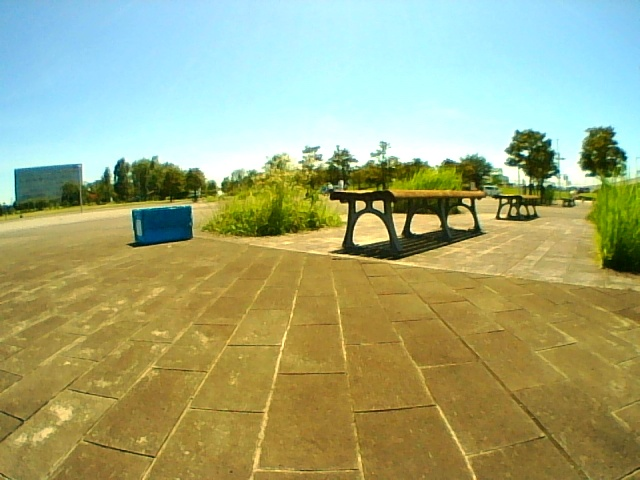blue_box: (134, 209, 193, 240)
tag: (136, 221, 142, 235)
